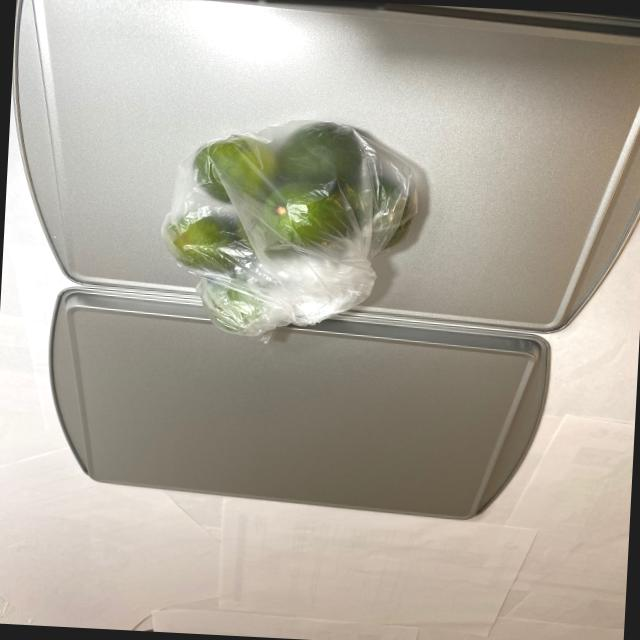lemon: (150, 118, 442, 336)
